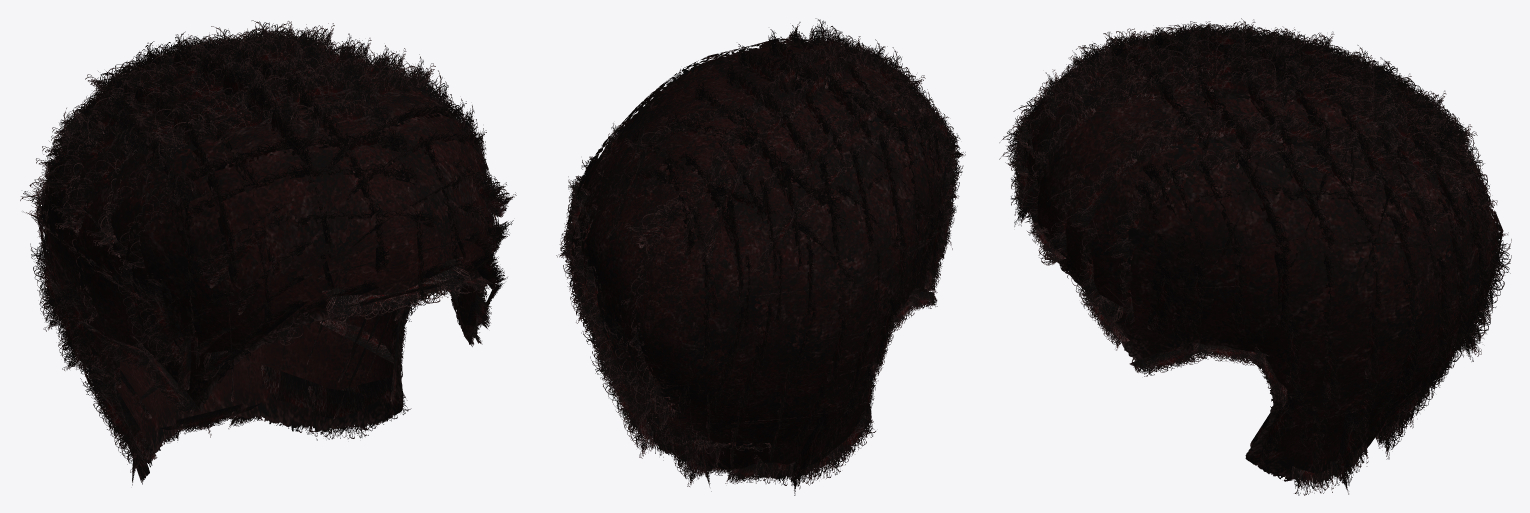
File: mh_afro01.glb
3 views of the same model, side by side, from view 1: azimuth 30°, elevation 25°; view 2: azimuth 150°, elevation 25°; view 3: azimuth 270°, elevation 25° (orthographic). The views are drawn at different scales.
Parts seen in each view (by area): view 1: mh_afro01; view 2: mh_afro01; view 3: mh_afro01.
Boxes of the visible parts, x1,y1,x2,y2 form: mh_afro01: (20, 20, 516, 485); mh_afro01: (556, 18, 965, 495); mh_afro01: (999, 18, 1511, 495).
Size of the model in its own units: 0.2059 by 0.2261 by 0.2557.
1 material, 1 textured.
